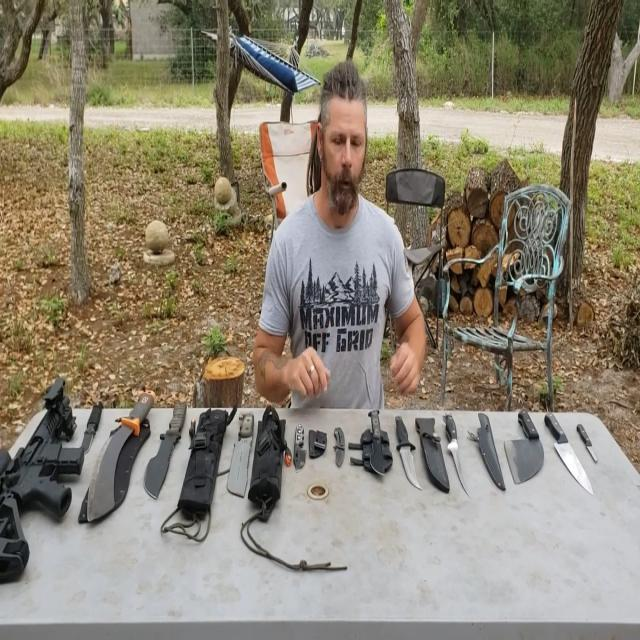knife: (79, 382, 154, 535), (140, 389, 186, 506), (496, 394, 541, 501), (433, 406, 479, 502), (223, 402, 262, 511), (546, 406, 593, 491), (392, 400, 423, 500), (362, 396, 392, 486), (76, 393, 110, 460), (329, 412, 356, 481), (576, 416, 608, 473), (288, 422, 316, 483)
long weapon: (0, 375, 84, 596)
